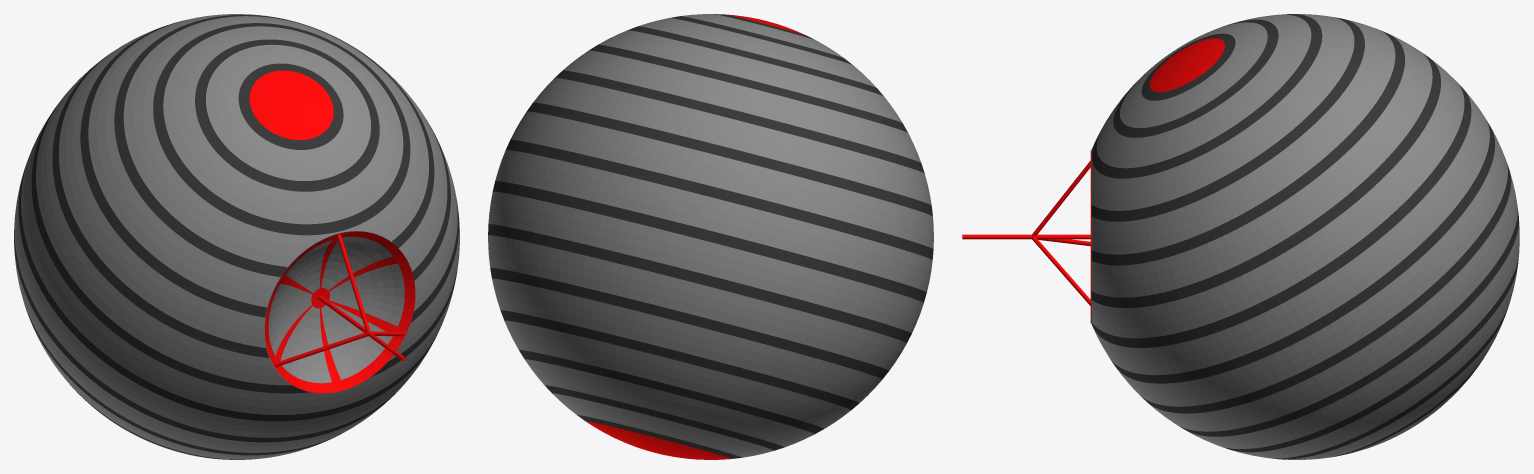
The model's file is subboss.fbx.
3 renders of one model, left to right at view 1: azimuth 30°, elevation 25°; view 2: azimuth 150°, elevation 25°; view 3: azimuth 270°, elevation 25°, orthographic.
Visible parts, largest first — view 1: Sphere, Gun; view 2: Sphere; view 3: Sphere, Gun.
Part boxes in pixels (left/top/right/bottom): Sphere: left=14, top=14, right=459, bottom=459; Gun: left=274, top=233, right=405, bottom=366; Sphere: left=488, top=14, right=933, bottom=459; Sphere: left=1090, top=14, right=1519, bottom=459; Gun: left=962, top=161, right=1090, bottom=305.
Bounding box in the file's own units: 2000 × 2000 × 2500.
